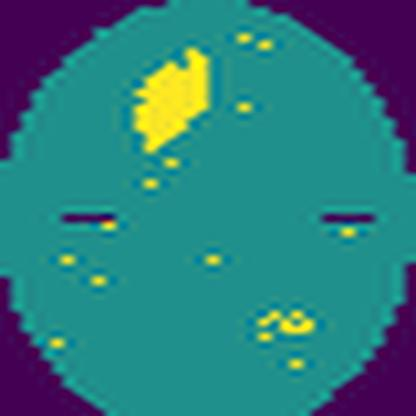Loc: (126, 47, 212, 153), (256, 305, 316, 342)
